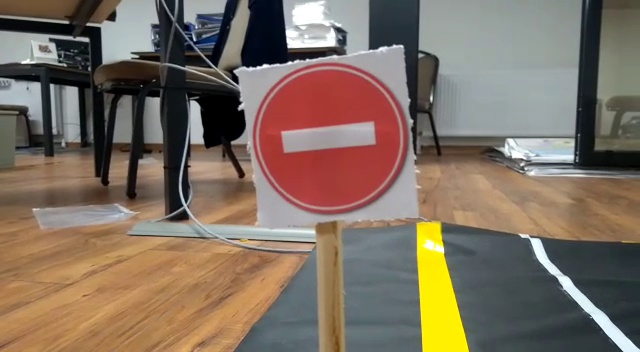girisi_olmayan_yol: (254, 56, 414, 215)
